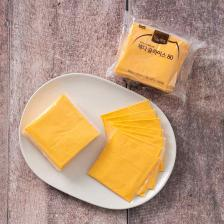cheese: (23, 93, 100, 171), (87, 129, 160, 203)
